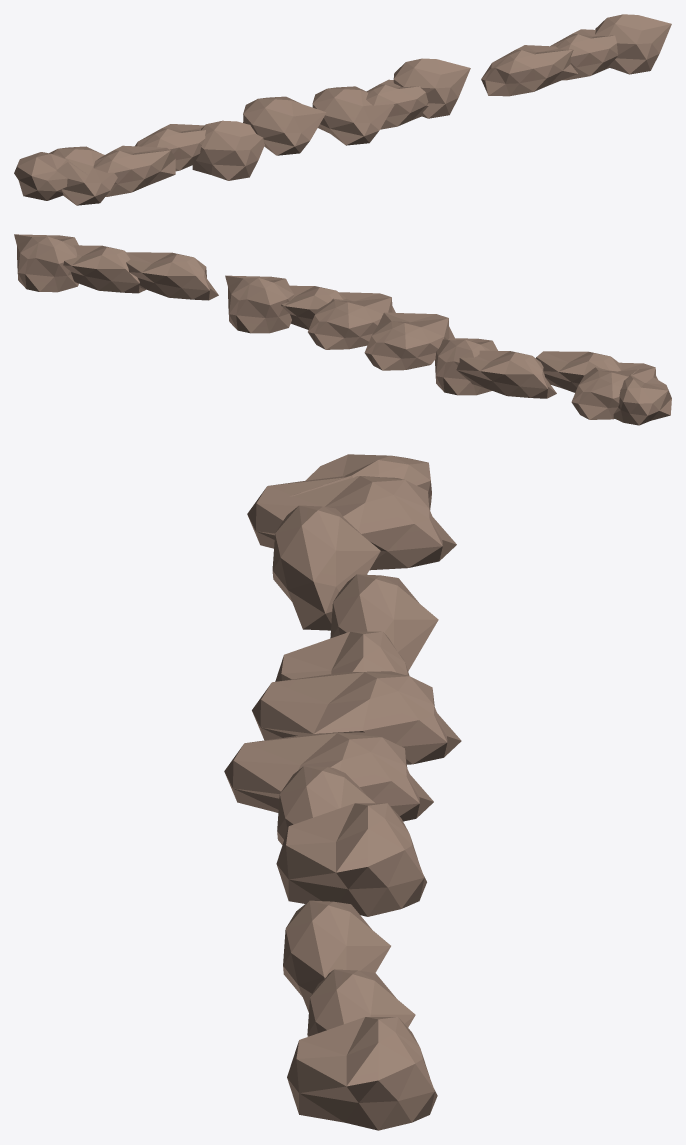
The model's file is shitou-2.fbx.
The picture shows the model from 3 angles, top to bottom: view 1: azimuth 30°, elevation 25°; view 2: azimuth 150°, elevation 25°; view 3: azimuth 270°, elevation 25°; orthographic projection. The views are drawn at different scales.
Visible parts, largest first — view 1: 棱角球.127; view 2: 棱角球.127; view 3: 棱角球.127.
Boxes of the visible parts, left/top/right/bottom form: 棱角球.127: left=14, top=14, right=671, bottom=205; 棱角球.127: left=14, top=234, right=671, bottom=425; 棱角球.127: left=224, top=454, right=461, bottom=1130.
Size of the model in its own units: 7885 by 659 by 1257.
